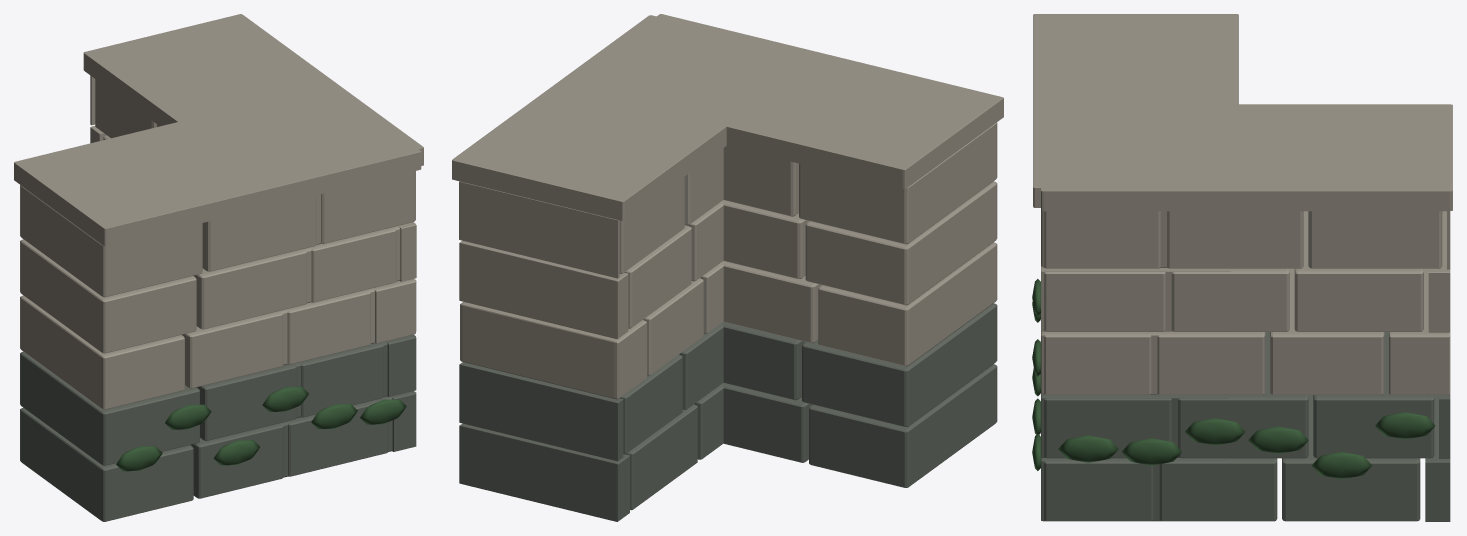
File: kaimauer_ecke.glb
3 renders of one model, left to right at view 1: azimuth 30°, elevation 25°; view 2: azimuth 150°, elevation 25°; view 3: azimuth 270°, elevation 25°, orthographic. The views are drawn at different scales.
Visible parts, largest first — view 1: Cube; view 2: Cube; view 3: Cube.
Part boxes in pixels (x1,y1,x2,y2): Cube: [14, 14, 423, 521]; Cube: [452, 14, 1003, 521]; Cube: [1032, 14, 1452, 521].
Size of the model in its own units: 2.66 by 2.33 by 2.66.
